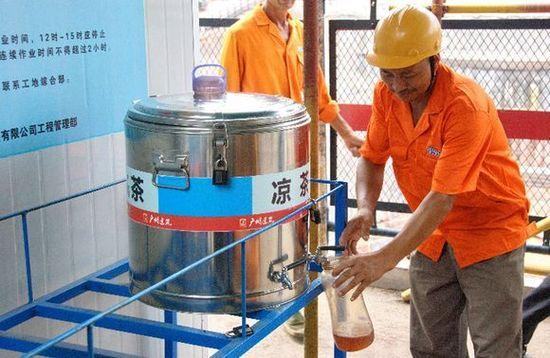helmet: (367, 7, 444, 71)
